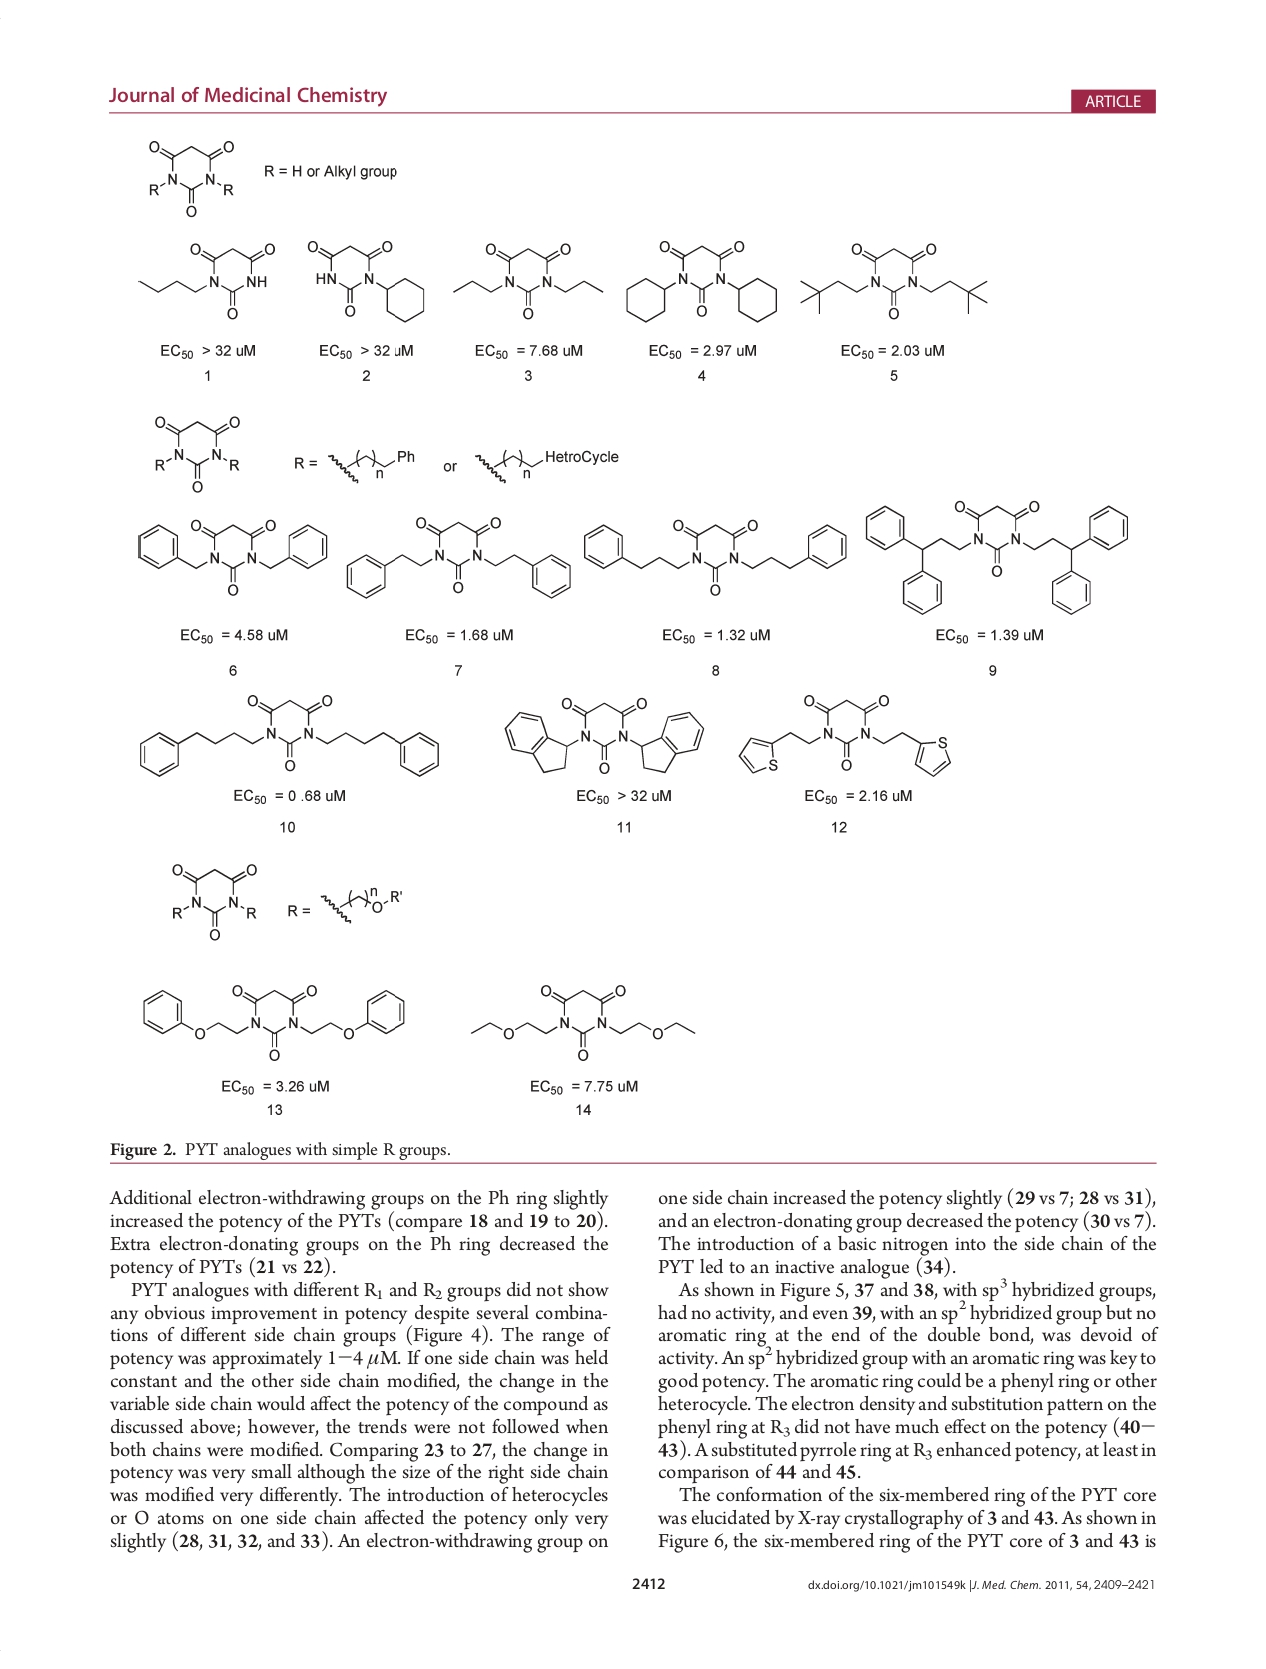exist_molecular: (858, 493, 1133, 618), (133, 692, 442, 783), (136, 971, 410, 1061), (340, 513, 576, 606), (581, 516, 850, 597), (730, 688, 953, 785), (467, 977, 699, 1065), (125, 509, 331, 597), (499, 690, 706, 775), (794, 238, 992, 319), (620, 238, 783, 330), (445, 239, 604, 323), (136, 235, 277, 322), (303, 231, 430, 327), (145, 407, 250, 501), (140, 130, 237, 223), (168, 852, 262, 944), (469, 438, 624, 485), (316, 879, 406, 926), (320, 446, 415, 485)
